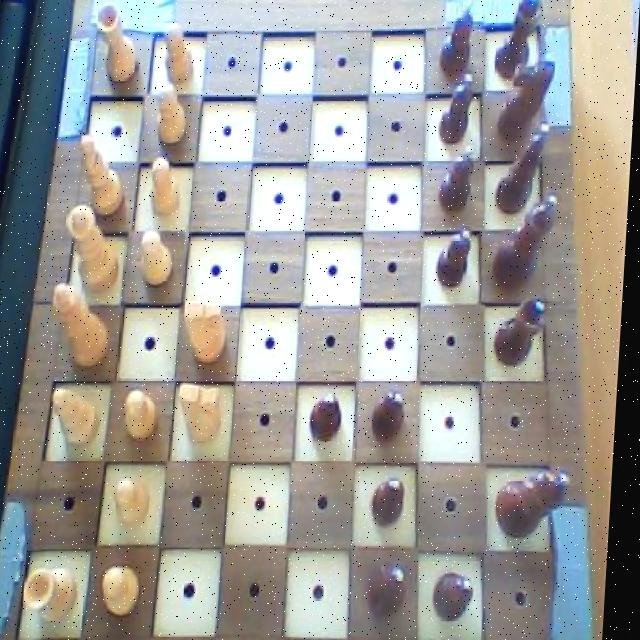bishop: (494, 118, 553, 217), (371, 559, 420, 623)
black-bishop: (490, 192, 565, 292), (496, 462, 582, 542)
black-king: (492, 57, 561, 145)
black-knight: (435, 0, 483, 75), (439, 138, 480, 216), (437, 218, 481, 290), (439, 68, 480, 144), (436, 566, 486, 626), (307, 388, 353, 449), (373, 384, 416, 444), (373, 472, 413, 532)
black-queen: (493, 0, 548, 83), (495, 294, 554, 368)
black-rook: (74, 132, 132, 220), (50, 383, 111, 452)
white-bishop: (49, 277, 118, 371)
white-king: (184, 298, 240, 369), (178, 378, 230, 448)
white-knight: (138, 226, 185, 289), (105, 562, 152, 618), (156, 82, 195, 149), (150, 154, 187, 222), (117, 474, 161, 530), (163, 19, 199, 86), (127, 388, 167, 443)
white-pawn: (66, 202, 129, 296)
white-queen: (90, 0, 144, 88), (26, 560, 88, 625)
